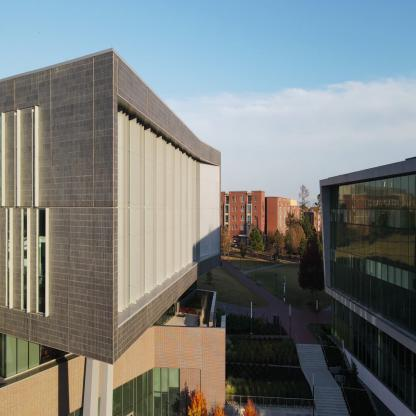Fitts- Woolard: (1, 34, 230, 416)
Hunt Library: (308, 135, 415, 410)
Wolf Ridge: (232, 180, 300, 288)
